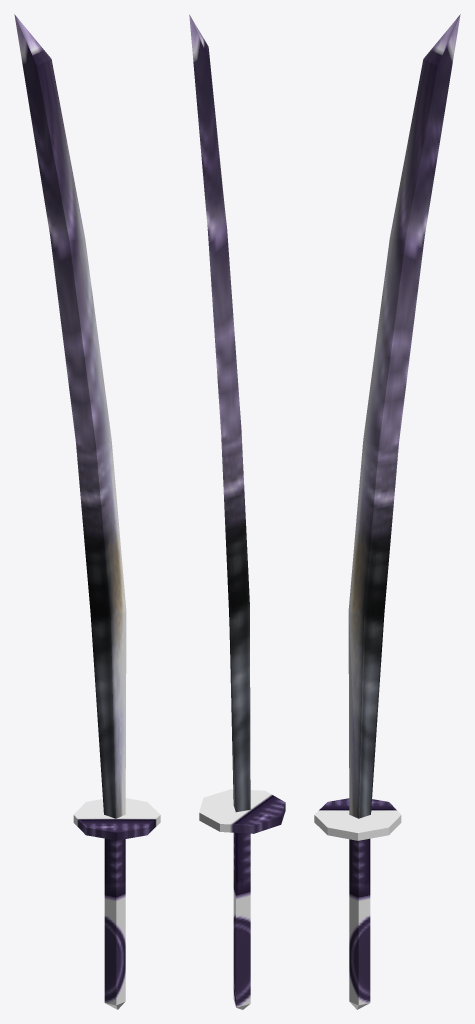
The model's file is heavybladev00_6.obj.
3 views of the same model, side by side, from view 1: azimuth 90°, elevation 25°; view 2: azimuth 150°, elevation 25°; view 3: azimuth 270°, elevation 25° (orthographic). The views are drawn at different scales.
Parts seen in each view (by area): view 1: MDL_cw2hkt00_6; view 2: MDL_cw2hkt00_6; view 3: MDL_cw2hkt00_6.
Boxes of the visible parts, left/top/right/bottom form: MDL_cw2hkt00_6: left=14, top=14, right=160, bottom=1009; MDL_cw2hkt00_6: left=189, top=14, right=285, bottom=1009; MDL_cw2hkt00_6: left=314, top=14, right=460, bottom=1009.
Bounding box in the file's own units: 0.1388 × 1.77 × 0.235.
